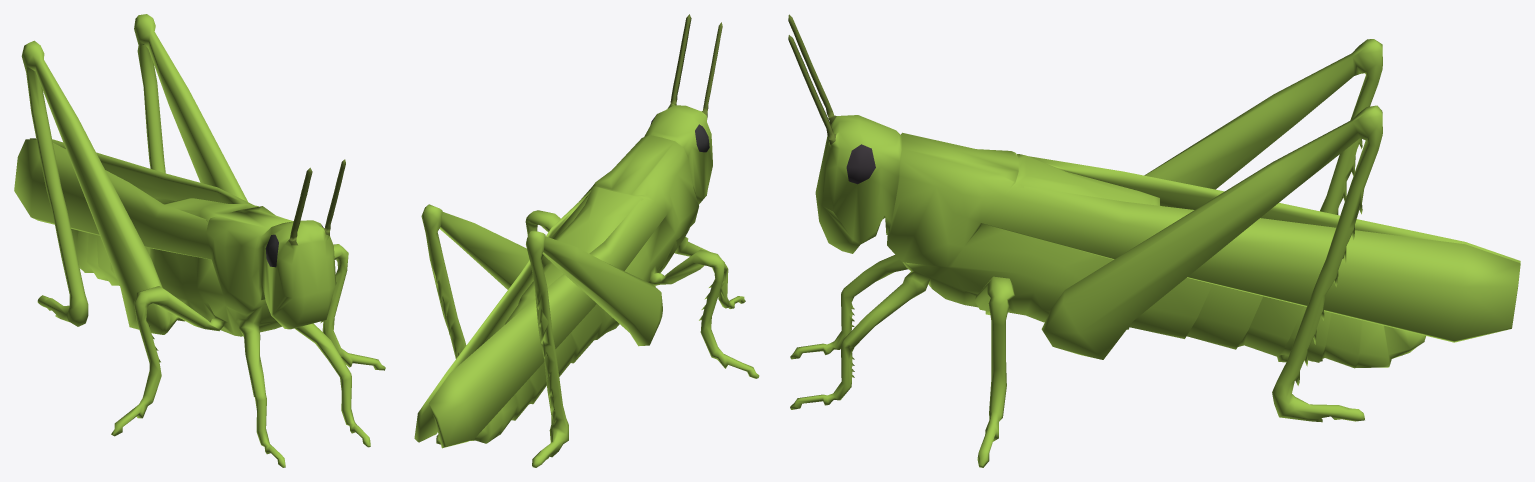
The model's file is Grasshopper_LowPoly.fbx.
3 views of the same model, side by side, from view 1: azimuth 30°, elevation 25°; view 2: azimuth 150°, elevation 25°; view 3: azimuth 270°, elevation 25° (orthographic). The views are drawn at different scales.
Parts seen in each view (by area): view 1: criquet; view 2: criquet; view 3: criquet.
Part boxes in pixels (left/top/right/bottom): criquet: left=14, top=14, right=385, bottom=467; criquet: left=414, top=14, right=759, bottom=467; criquet: left=788, top=14, right=1520, bottom=467.
Size of the model in its own units: 461 by 484 by 875.
